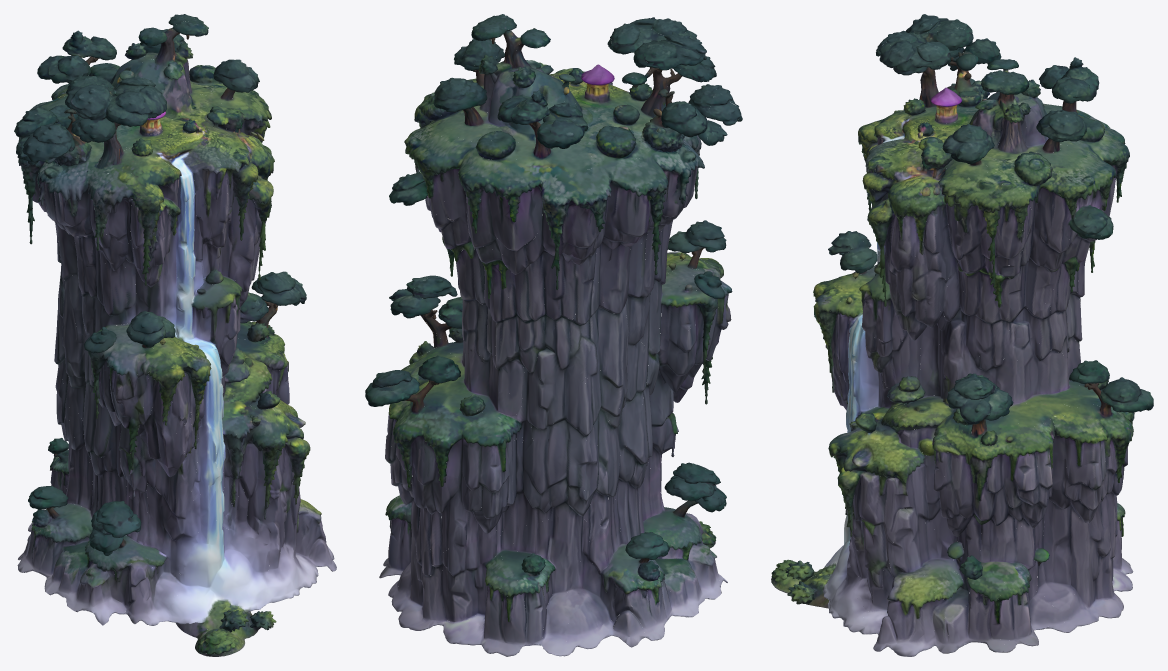
File: tower.glb
The picture shows the model from 3 angles, left to right: view 1: azimuth 30°, elevation 25°; view 2: azimuth 150°, elevation 25°; view 3: azimuth 270°, elevation 25°; orthographic projection. The views are drawn at different scales.
Parts seen in each view (by area): view 1: tripo_node_86455442-e325-4316-b7f9-7e91e3b062fb; view 2: tripo_node_86455442-e325-4316-b7f9-7e91e3b062fb; view 3: tripo_node_86455442-e325-4316-b7f9-7e91e3b062fb.
Boxes of the visible parts, x1,y1,x2,y2 form: tripo_node_86455442-e325-4316-b7f9-7e91e3b062fb: [14, 14, 336, 656]; tripo_node_86455442-e325-4316-b7f9-7e91e3b062fb: [365, 14, 742, 656]; tripo_node_86455442-e325-4316-b7f9-7e91e3b062fb: [771, 14, 1153, 656].
Size of the model in its own units: 203 by 350 by 223.
Materials: 1 (1 with a texture image).
